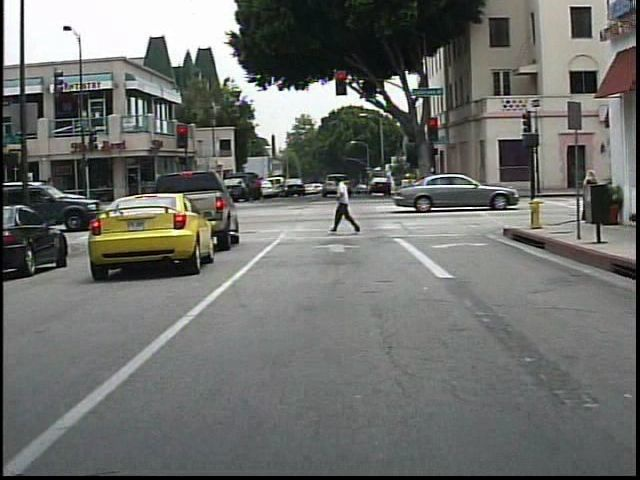person: (329, 173, 361, 236), (576, 167, 603, 222), (247, 169, 272, 210)
